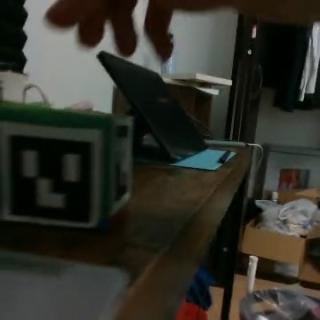armor: (1, 121, 102, 223)
robot: (0, 102, 135, 228)
